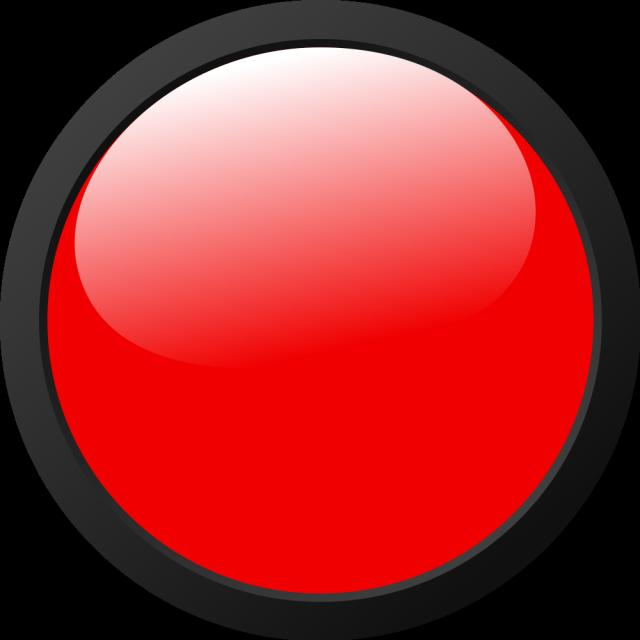red: (1, 5, 634, 638)
